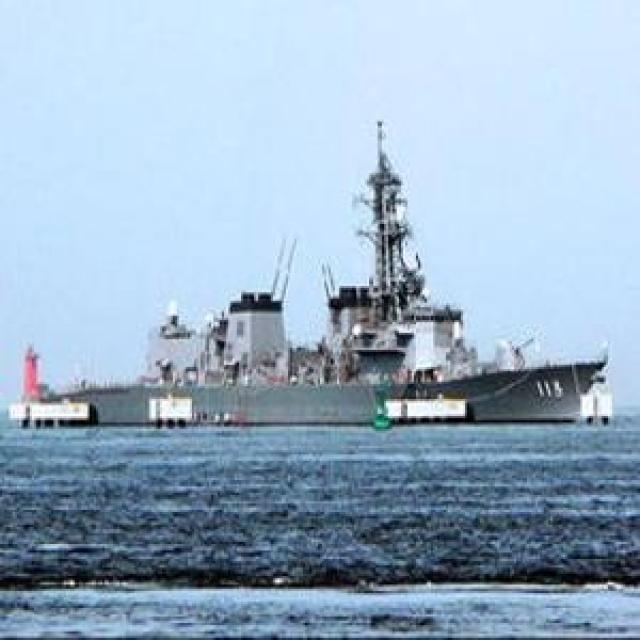navalvessels: (30, 127, 616, 444)
